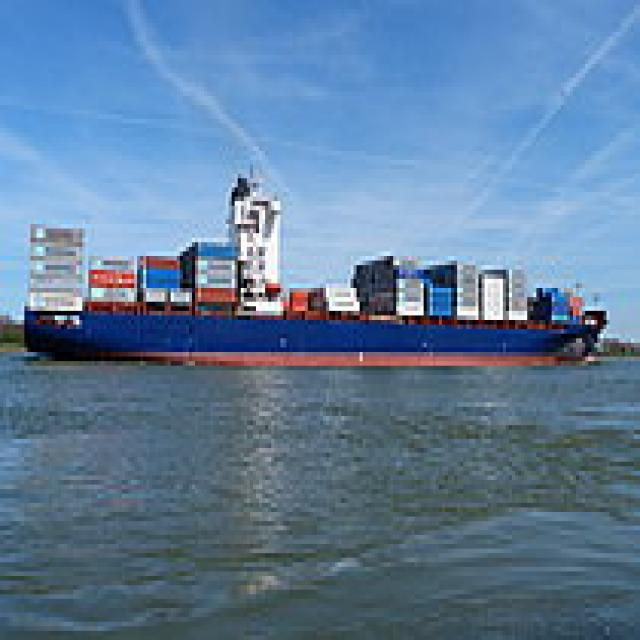Ship: (13, 148, 620, 381)
